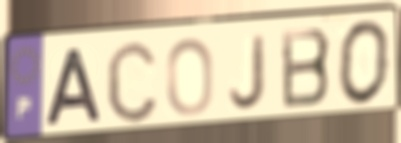A: (43, 46, 105, 129)
B: (279, 25, 334, 113)
C: (104, 37, 161, 127)
J: (227, 31, 270, 113)
O: (335, 18, 393, 108), (164, 35, 216, 119)
